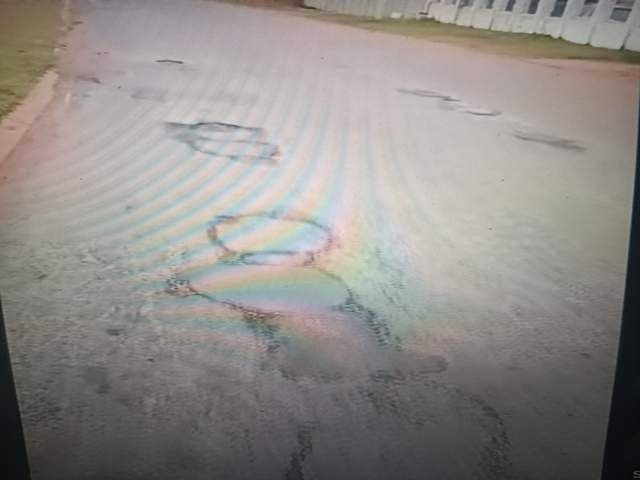pothole: (107, 403, 320, 480)
